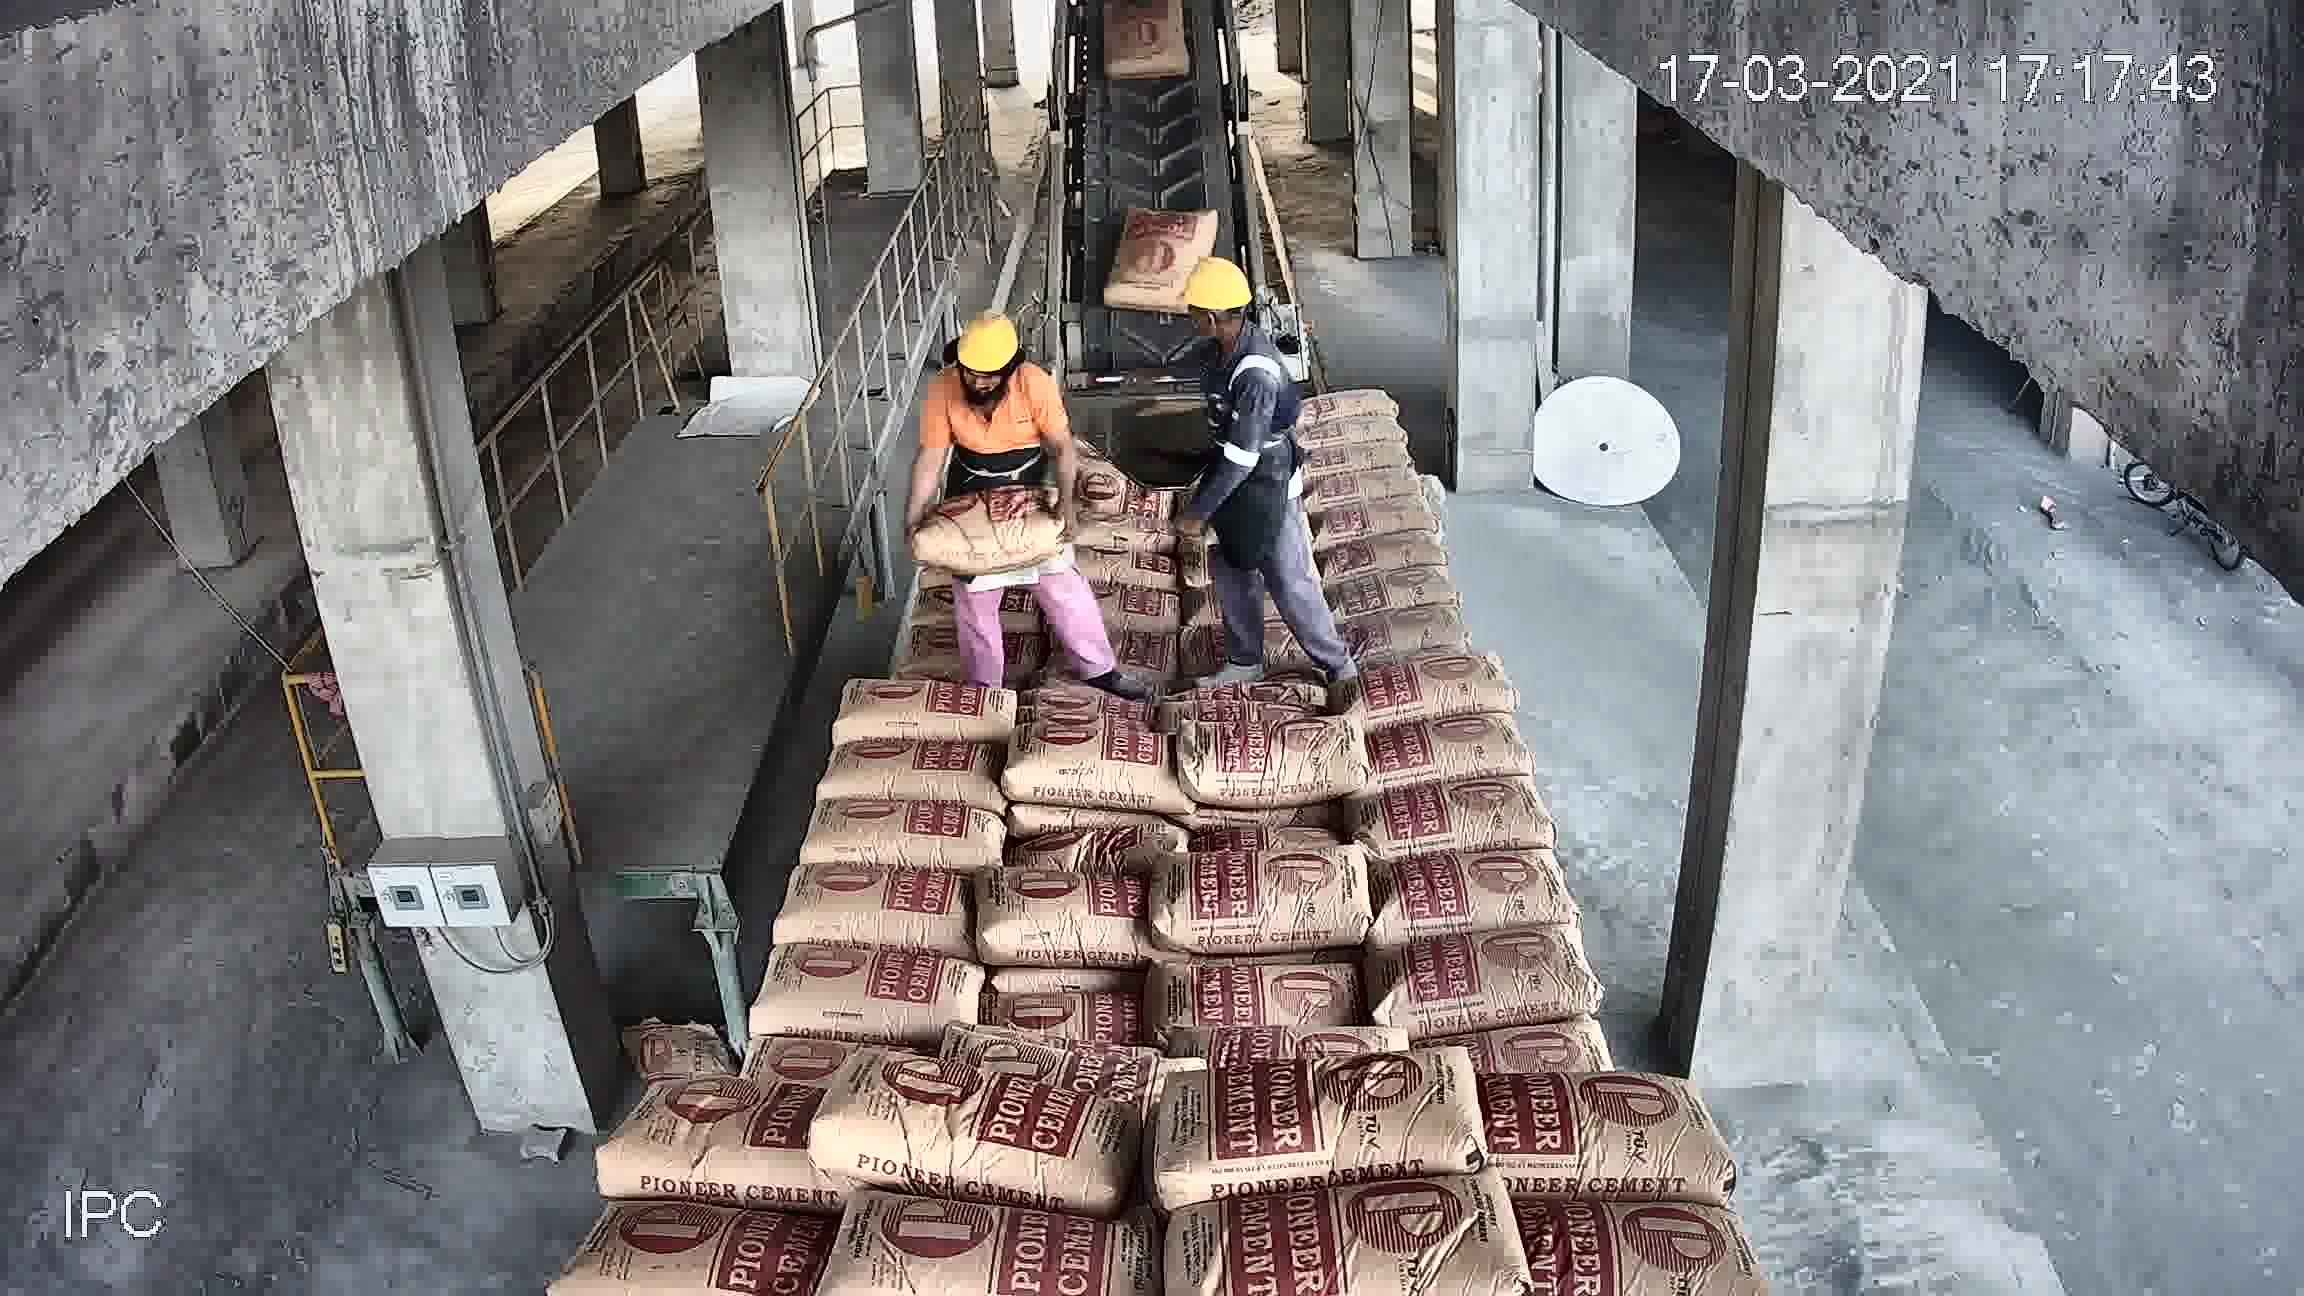bag: (1103, 209, 1215, 309), (1101, 17, 1193, 89)
bag_h: (799, 1063, 1143, 1222), (1157, 1051, 1467, 1195), (802, 1195, 1147, 1296), (1176, 1174, 1484, 1283), (1465, 1078, 1725, 1207), (1362, 916, 1603, 1041), (1506, 1184, 1753, 1290), (604, 1087, 810, 1212), (559, 1199, 813, 1294), (760, 859, 987, 957), (748, 949, 997, 1036), (1165, 850, 1375, 945), (1359, 848, 1570, 937), (1154, 961, 1366, 1046), (980, 877, 1157, 976), (1179, 714, 1364, 809), (1355, 774, 1552, 859), (1002, 717, 1180, 809), (801, 802, 1002, 878), (1008, 807, 1185, 888), (820, 734, 1010, 807), (1408, 1017, 1616, 1084), (1370, 706, 1530, 786), (836, 677, 1019, 745), (987, 983, 1158, 1052), (1343, 654, 1514, 722), (907, 491, 1059, 567), (1313, 530, 1449, 589), (1334, 562, 1449, 620), (1070, 540, 1185, 597), (1310, 486, 1448, 533), (1084, 585, 1185, 638), (1302, 460, 1426, 503), (1288, 411, 1415, 453), (1294, 380, 1407, 426), (1305, 435, 1421, 479), (1070, 514, 1184, 557), (1348, 619, 1483, 654)
belt: (1033, 17, 1271, 419)
